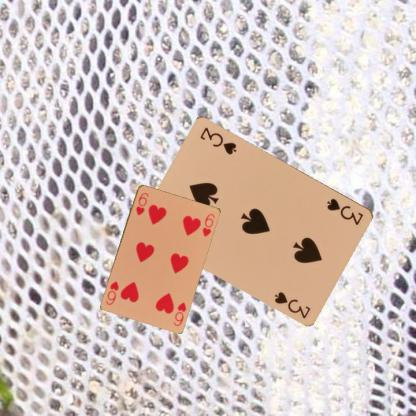3s: (324, 196, 365, 226)
6h: (171, 299, 187, 327), (133, 190, 150, 216)
